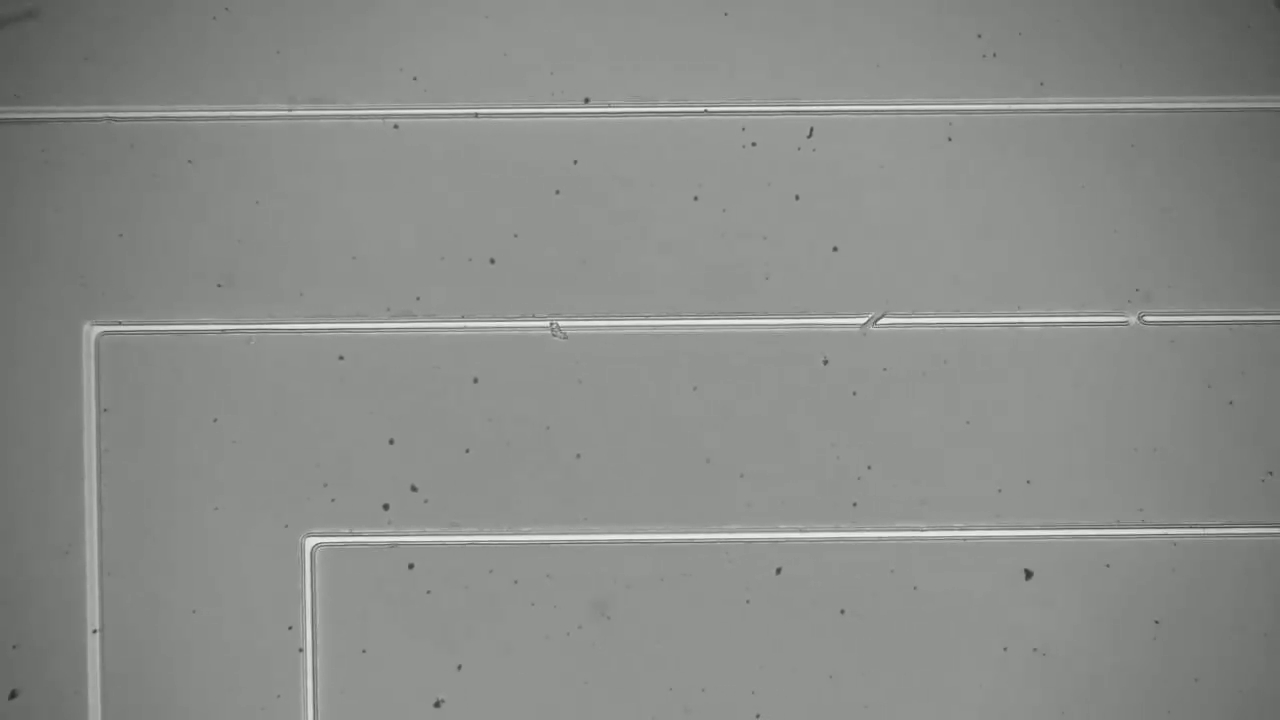open: (851, 299, 897, 344), (1118, 307, 1157, 332)
stains_enbedded: (535, 307, 581, 350)
